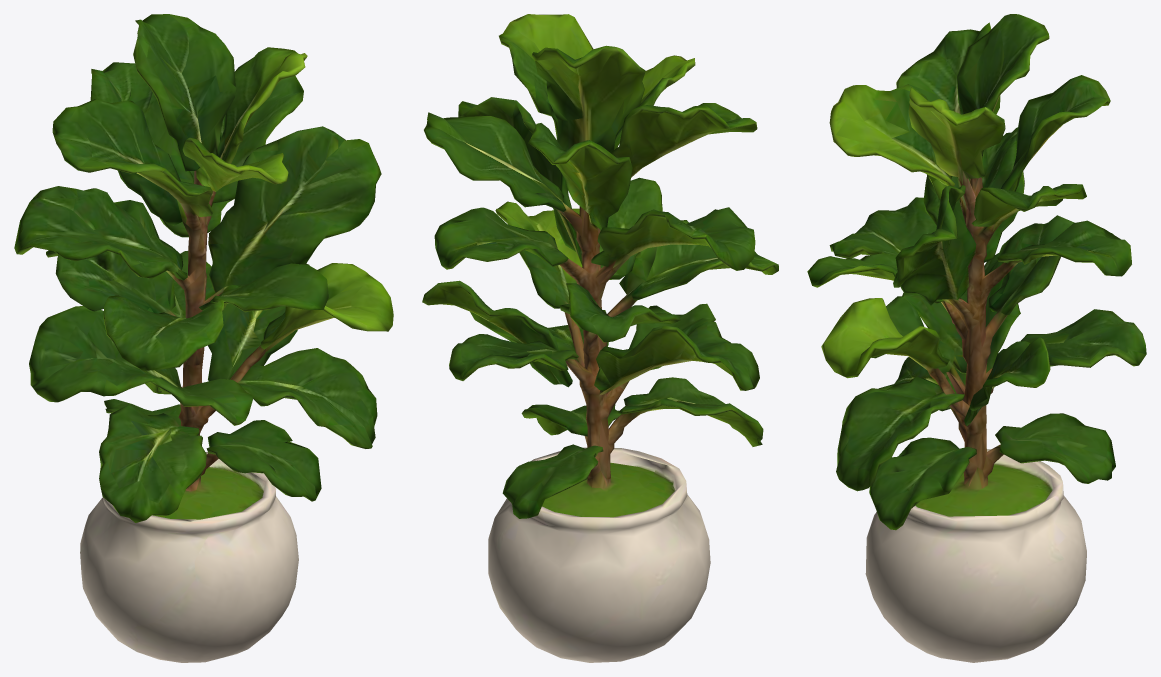
The model's file is potted_plant_tall_a.glb.
3 views of the same model, side by side, from view 1: azimuth 30°, elevation 25°; view 2: azimuth 150°, elevation 25°; view 3: azimuth 270°, elevation 25° (orthographic).
Visible parts, largest first — view 1: potted_plant_tall_a; view 2: potted_plant_tall_a; view 3: potted_plant_tall_a.
Boxes of the visible parts, x1,y1,x2,y2 form: potted_plant_tall_a: (14,14,393,662); potted_plant_tall_a: (422,14,778,662); potted_plant_tall_a: (807,14,1146,662).
Size of what is drawn, in the model's own units: 0.8897 by 1.6 by 0.8098.
1 material, 1 textured.
